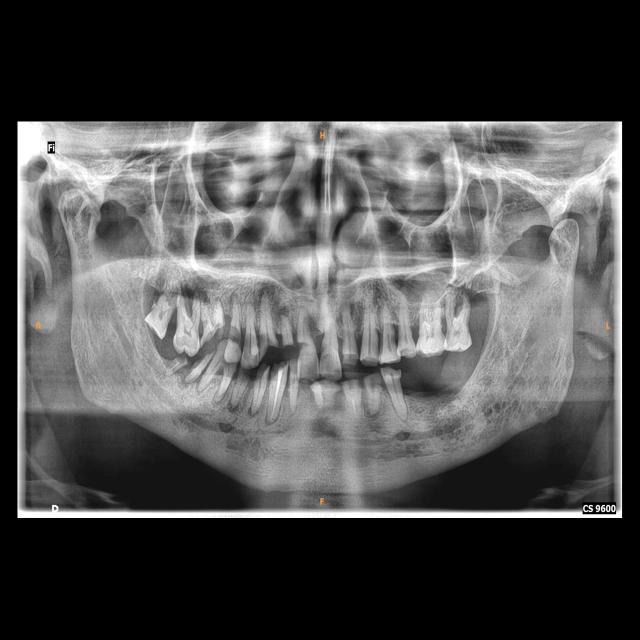dentin-curugu: (227, 323, 244, 347)
kanal-tedavisi: (265, 370, 289, 421)
kirik: (199, 312, 228, 351), (235, 364, 271, 385), (258, 336, 281, 361), (194, 347, 218, 368), (273, 356, 290, 375), (173, 354, 191, 371), (281, 336, 296, 351)
kok-enfeksiyonu: (176, 277, 210, 309)
